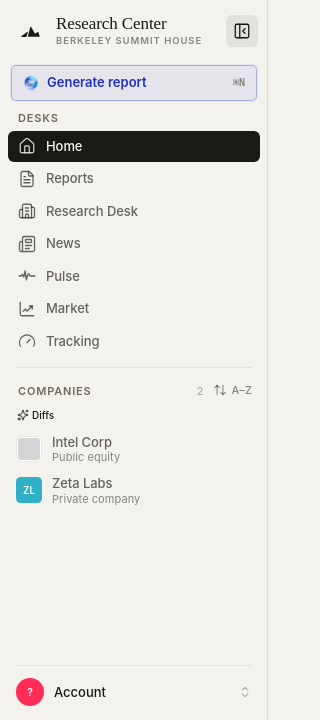
Test: Sidebar company pages › marks the open company, row and pages together, for the welcome tour
Click the link with class "company-source-row" showing "Intel Corp Public equity".
click(68, 449)  # box [16,434,120,464]
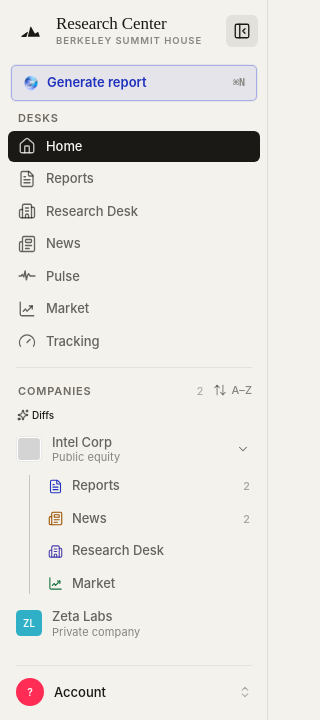
Expected: the link to "/intc" is shown, [8,429,260,469]
Now the element with test id "company-pages" is shown, box [48,477,250,591]
